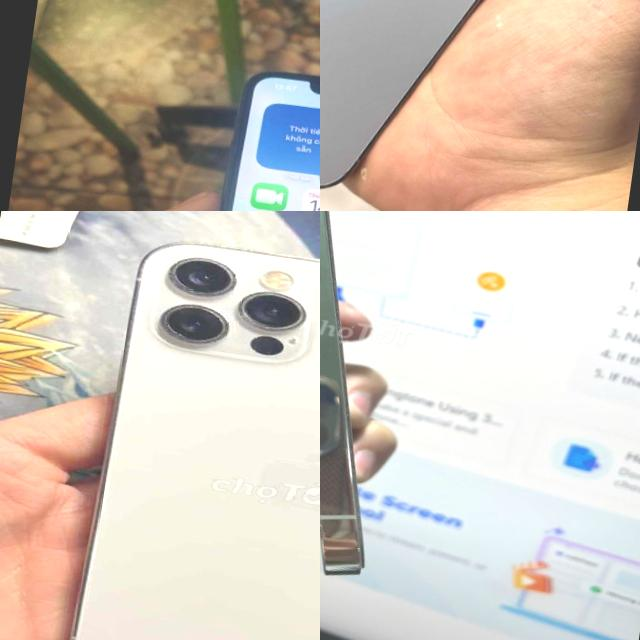gen_11: (177, 57, 320, 211)
gen_12_13: (52, 220, 320, 640), (320, 0, 626, 211)
gen_15: (320, 211, 449, 580)
